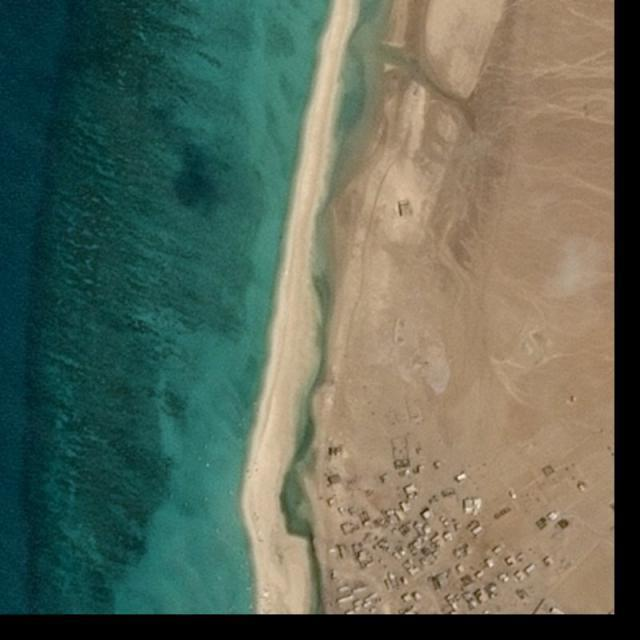ship: (206, 462, 210, 467), (204, 498, 209, 502), (170, 494, 174, 498)
